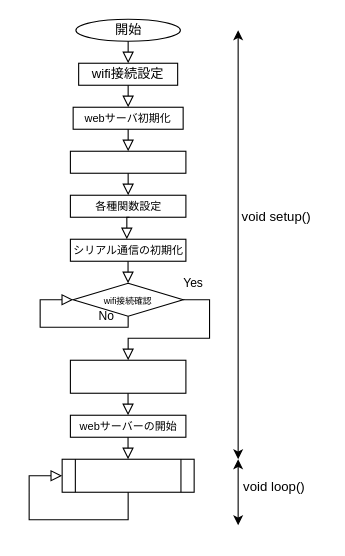
This 345x556 diagram has some shape labels left out. Each missing label, with the centre of its shape:
html・cssコード作成: (127,161)
各URLパスに対する ハンドラー関数設定: (127,376)
特定のURLに アクセスした時の処理: (127,475)
